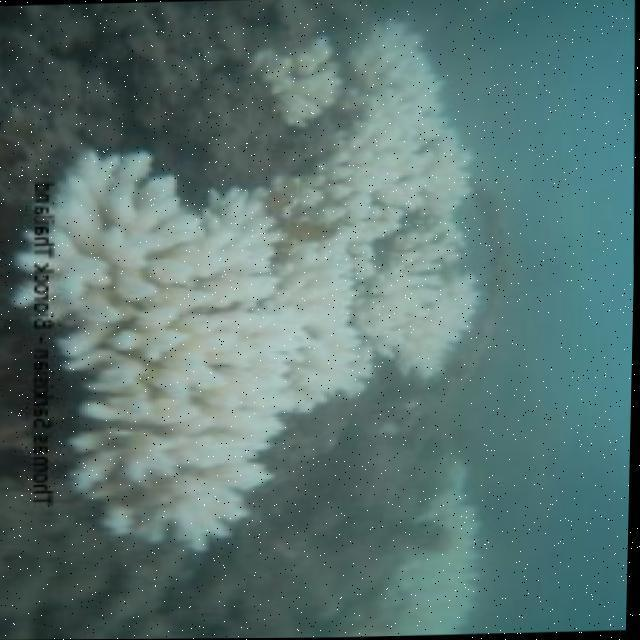Bleached Coral: (8, 126, 272, 564), (262, 13, 490, 406), (372, 456, 506, 637)
